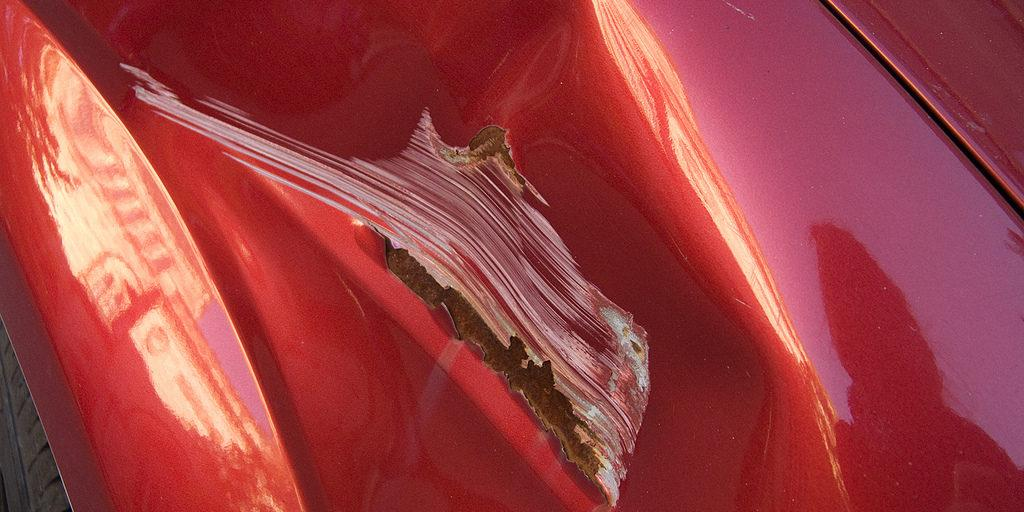scratch: (103, 41, 660, 511)
